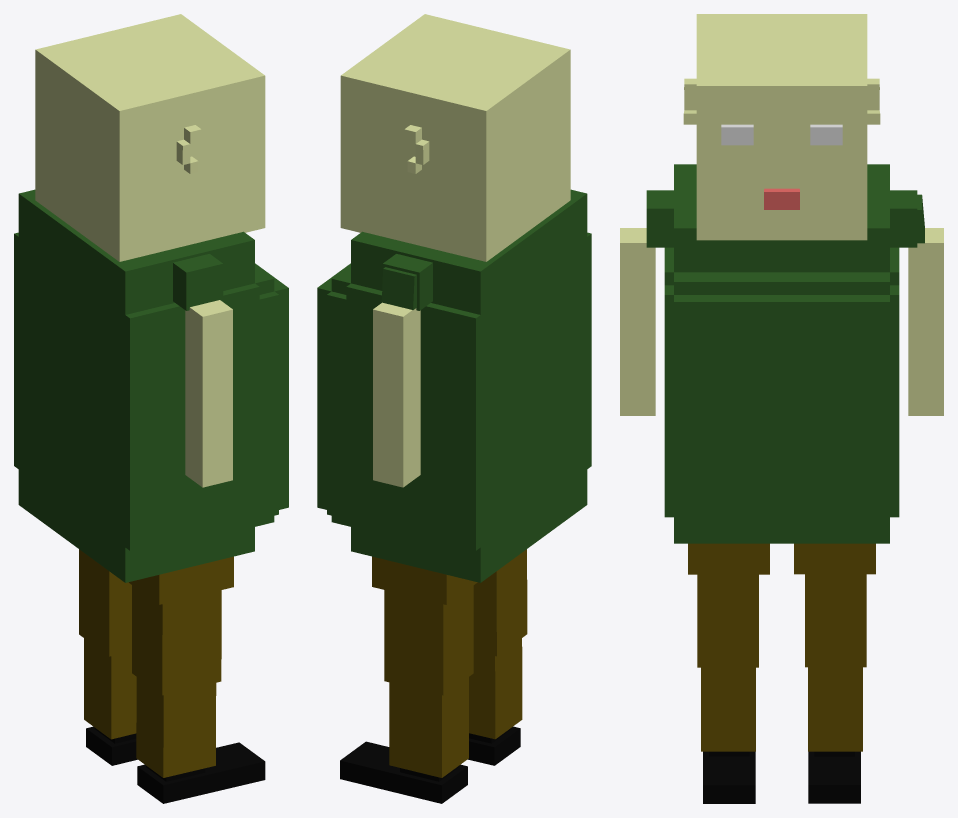
File: Enemy_Animations.fbx
3 renders of one model, left to right at view 1: azimuth 30°, elevation 25°; view 2: azimuth 150°, elevation 25°; view 3: azimuth 270°, elevation 25°, orthographic.
Visible parts, largest first — view 1: Character, head, Cube.010, Cube.001, Cube.007, Cube.004, Cube.005, Cube.008, RightLeg, RightArm, Cube.006; view 2: Character, head, Cube.003, Cube.004, Cube.005, Cube.001, Cube.007, Cube.006, LeftLeg, Cube.008, Cube.002, LeftArm; view 3: Character, head, Cube.010, Cube.003, Cube.004, Cube.001, Cube.005, Cube.007, Cube.006, Cube.008, LeftLeg, RightLeg (+2 smaller).
Part boxes in pixels (left/top/right/bottom): Character: left=14, top=189, right=288, bottom=582; head: left=35, top=14, right=265, bottom=261; Cube.010: left=185, top=300, right=232, bottom=487; Cube.001: left=132, top=585, right=221, bottom=695; Cube.007: left=136, top=677, right=216, bottom=777; Cube.004: left=79, top=549, right=131, bottom=656; Cube.005: left=84, top=638, right=136, bottom=739; Cube.008: left=137, top=742, right=265, bottom=803; RightLeg: left=129, top=556, right=233, bottom=604; RightArm: left=173, top=254, right=223, bottom=310; Cube.006: left=86, top=726, right=137, bottom=765; Character: left=317, top=189, right=591, bottom=582; head: left=340, top=14, right=570, bottom=261; Cube.003: left=373, top=302, right=420, bottom=487; Cube.004: left=384, top=585, right=473, bottom=695; Cube.005: left=389, top=677, right=468, bottom=777; Cube.001: left=473, top=549, right=527, bottom=656; Cube.007: left=469, top=638, right=522, bottom=739; Cube.006: left=340, top=741, right=467, bottom=803; LeftLeg: left=372, top=556, right=477, bottom=604; Cube.008: left=467, top=726, right=520, bottom=765; Cube.002: left=381, top=267, right=416, bottom=309; LeftArm: left=382, top=254, right=432, bottom=310; Character: left=664, top=164, right=899, bottom=543; head: left=683, top=14, right=880, bottom=240; Cube.010: left=620, top=228, right=655, bottom=415; Cube.003: left=908, top=228, right=943, bottom=415; Cube.004: left=805, top=574, right=866, bottom=667; Cube.001: left=697, top=574, right=758, bottom=667; Cube.005: left=808, top=667, right=862, bottom=751; Cube.007: left=701, top=667, right=755, bottom=751; Cube.006: left=808, top=751, right=860, bottom=803; Cube.008: left=703, top=751, right=755, bottom=803; LeftLeg: left=794, top=543, right=875, bottom=574; RightLeg: left=688, top=543, right=769, bottom=574.
Size of the model in its own units: 177 by 732 by 300.
